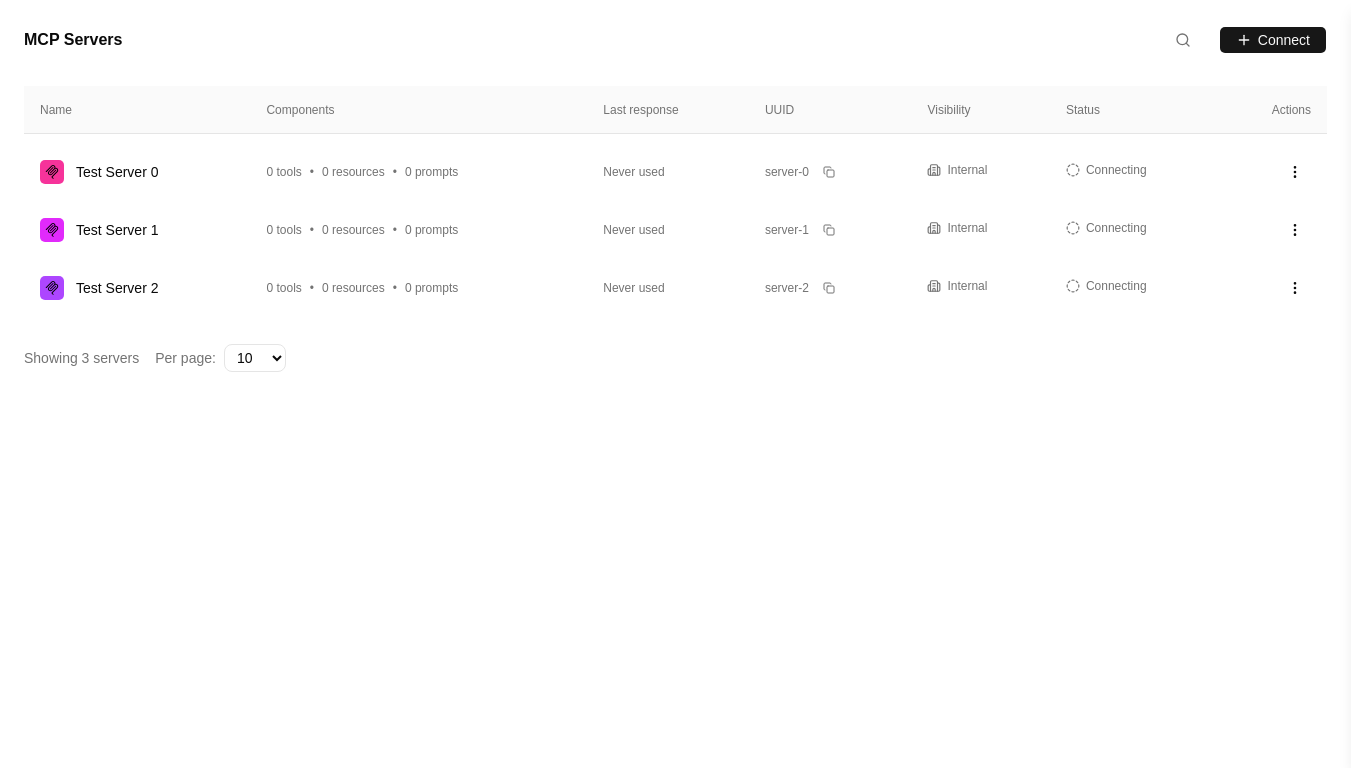
Test: Servers › optimistically removes server from list immediately on delete confirmation
Expected: the text "Test Server 0" is shown, [76, 162, 158, 182]
Click the button named "actions for".
click(1295, 172)  # box [1279, 156, 1311, 188]
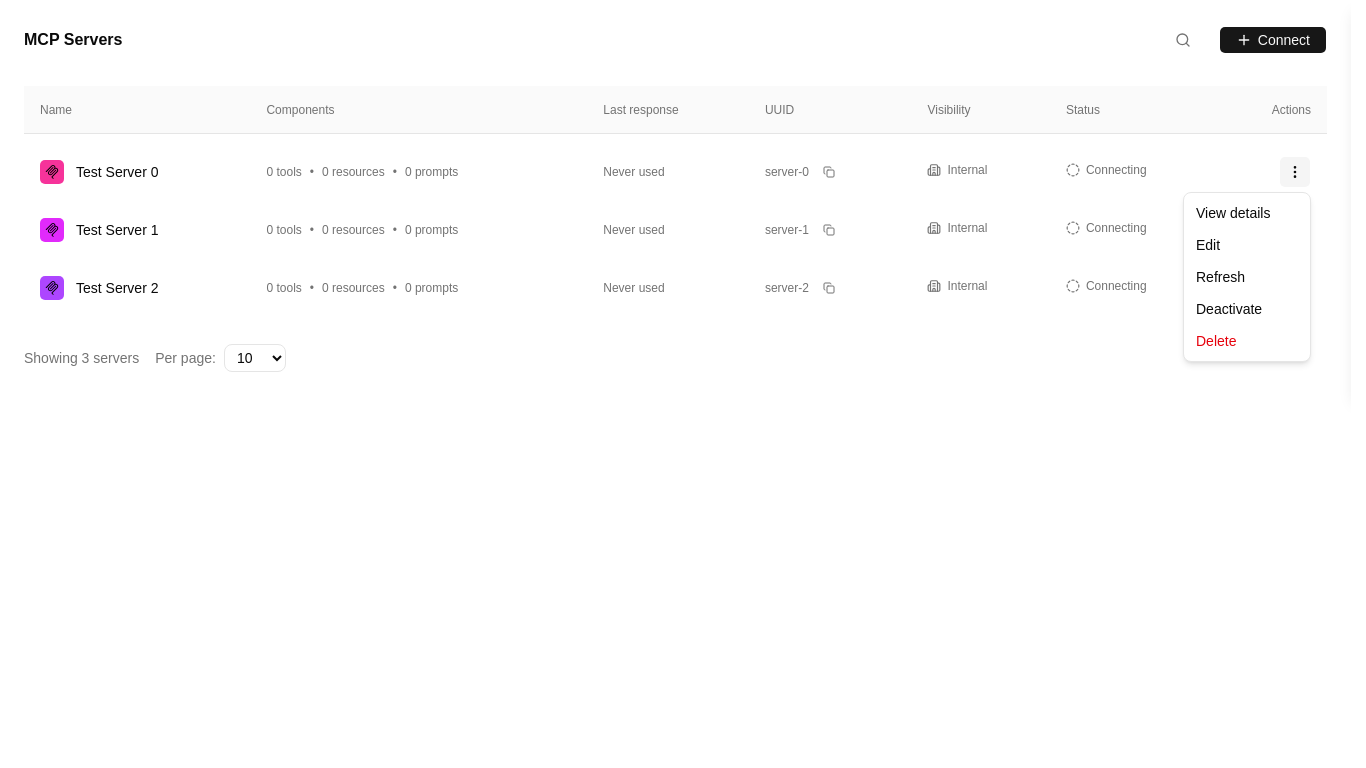
Click the menu item "Delete".
click(1216, 341)  # box [1196, 333, 1236, 349]
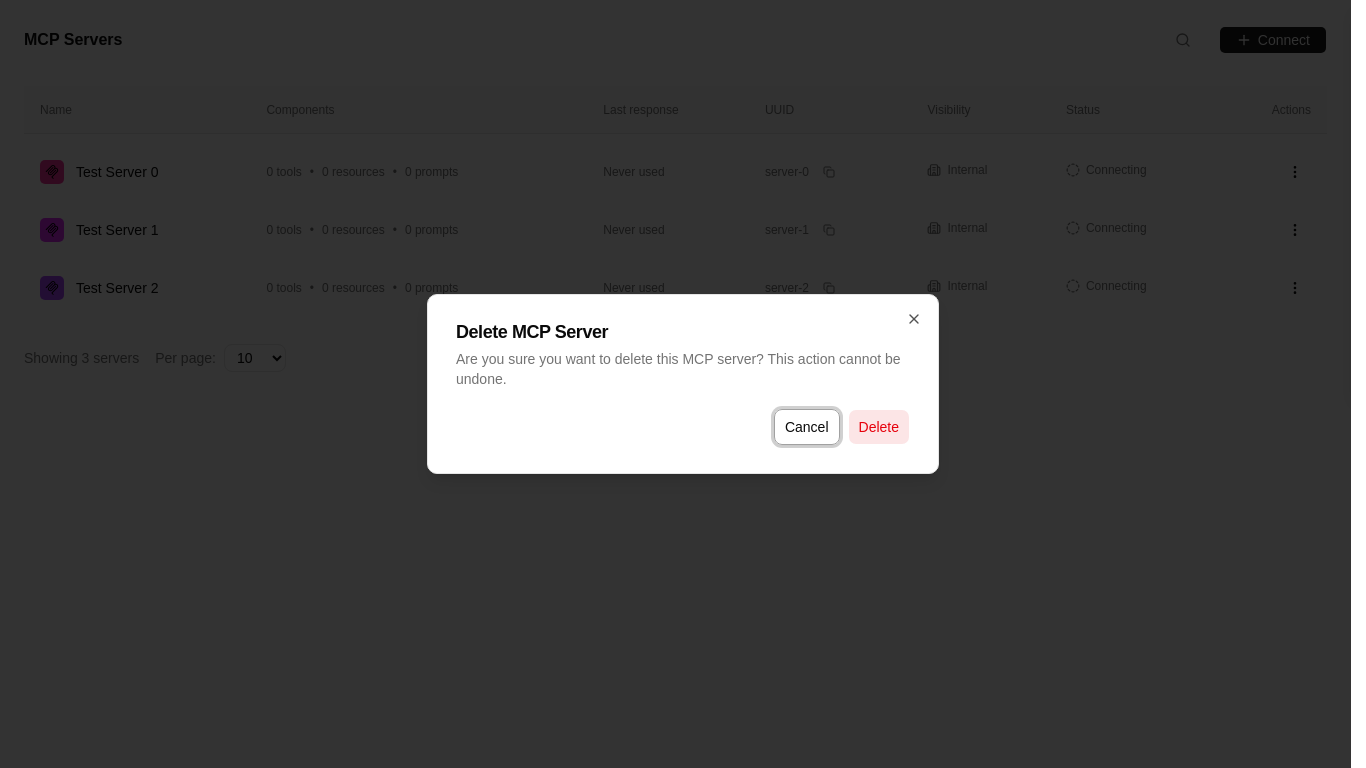
Click the button "Delete".
click(879, 427)  # box [848, 409, 910, 445]
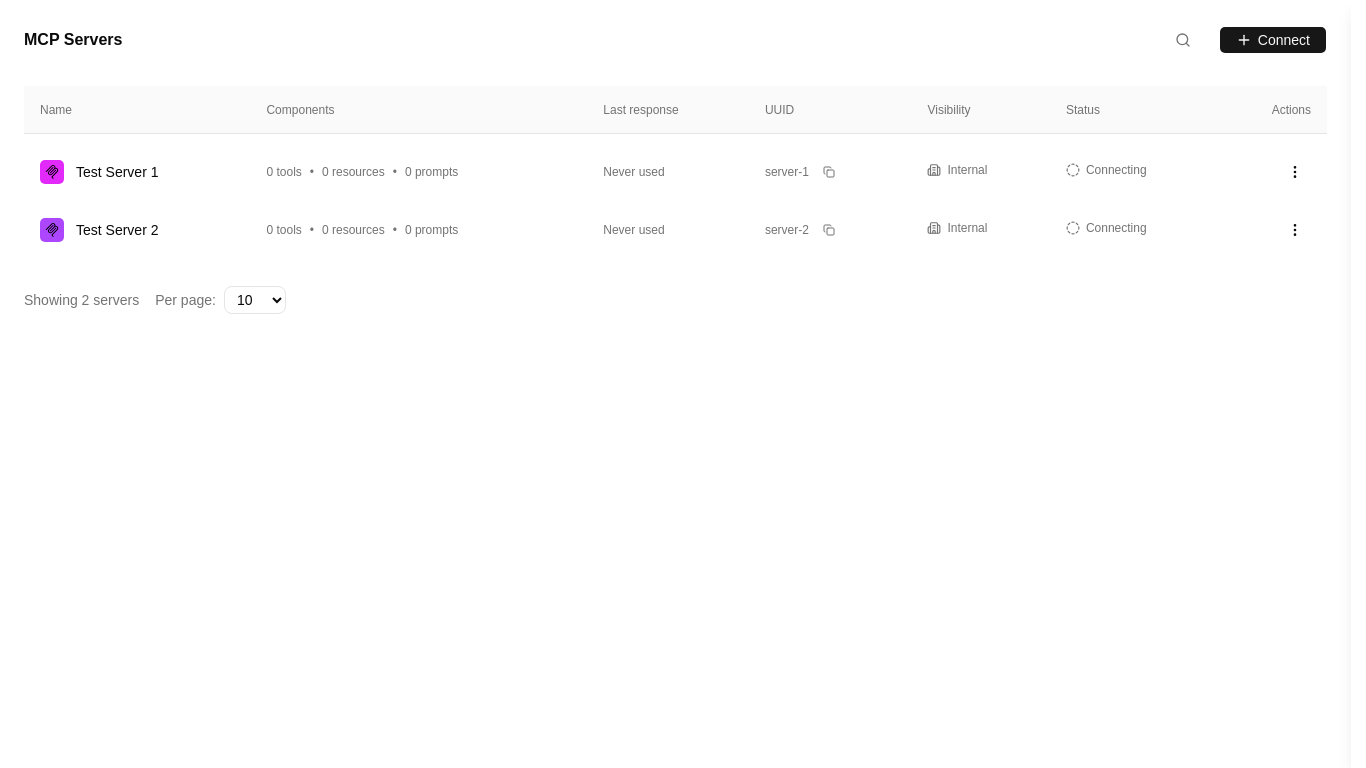
Expected: the text "Test Server 1" is shown, [76, 162, 158, 182]
Expected: the text "Test Server 0" is gone
